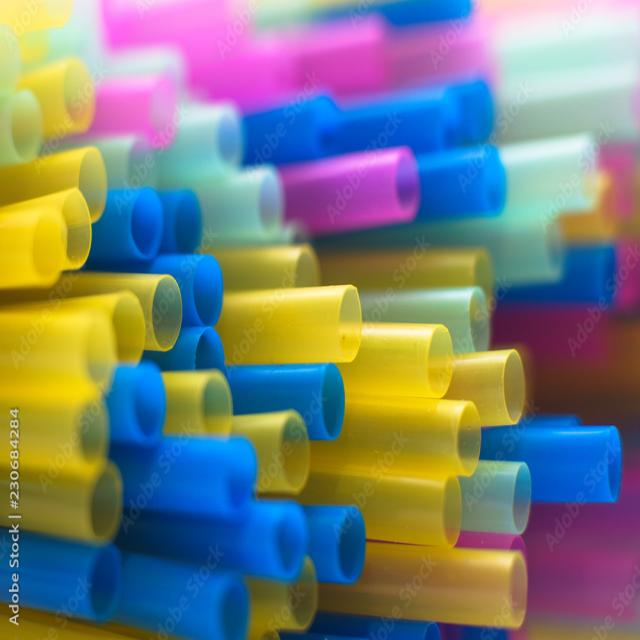plastic: (278, 142, 454, 242)
